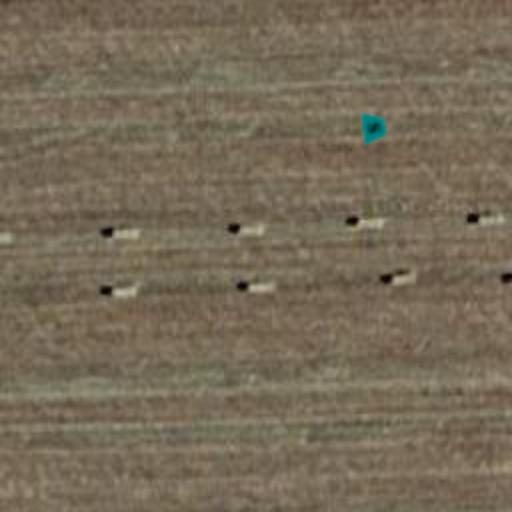trapezoid: (354, 108, 394, 148)
